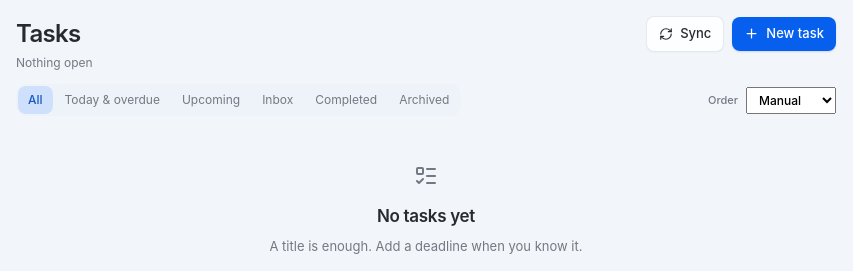
Test: opens archived tasks separately without calendar publication actions
Expected: the button "Research assignment" is not shown
Click the button "Archived" at (424, 100), box [389,86,460,114]
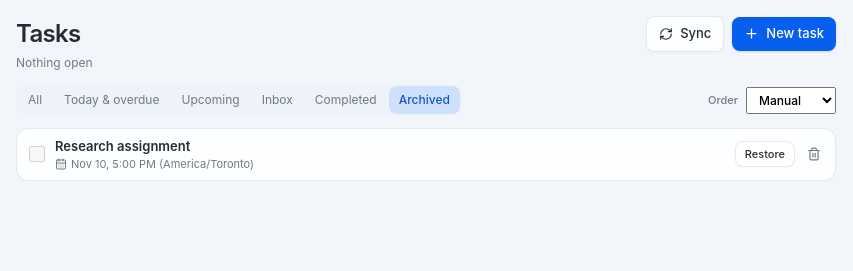
Now the button "Restore" is shown, box [735,141,795,167]
